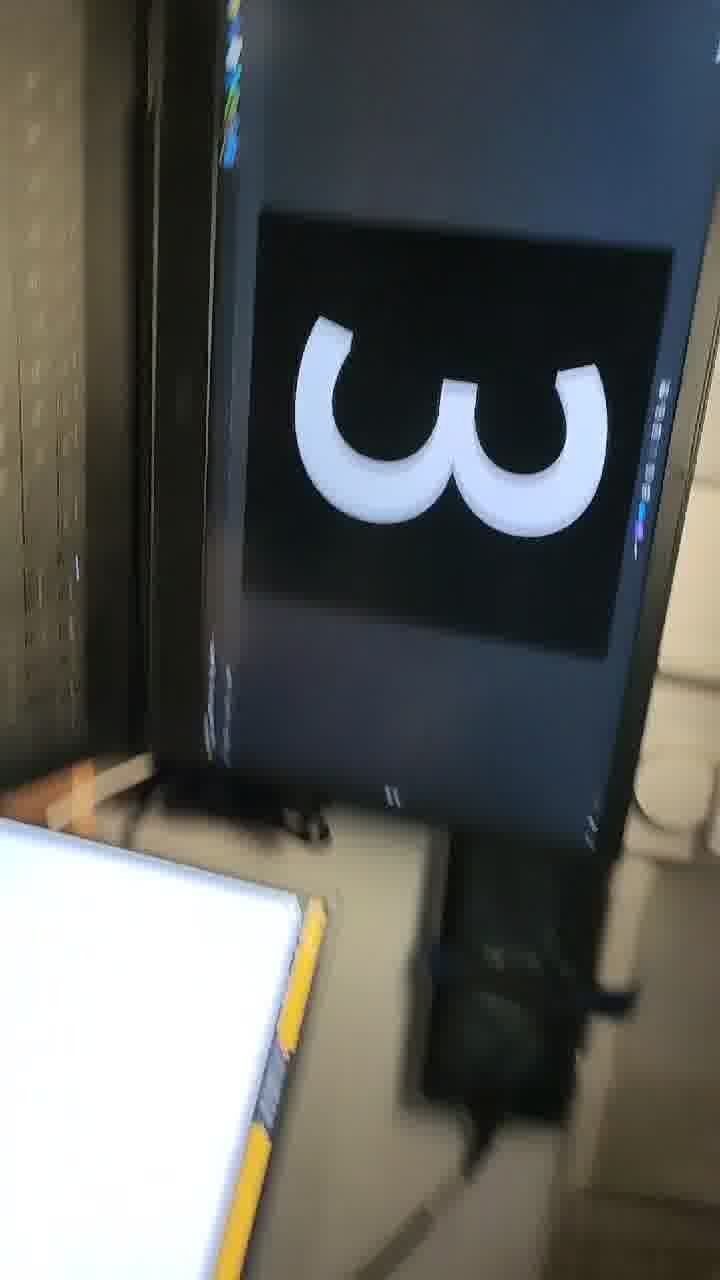three: (281, 288, 649, 589)
